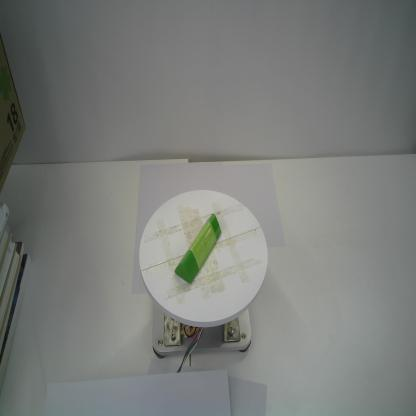Stationery: (174, 213, 222, 285)
